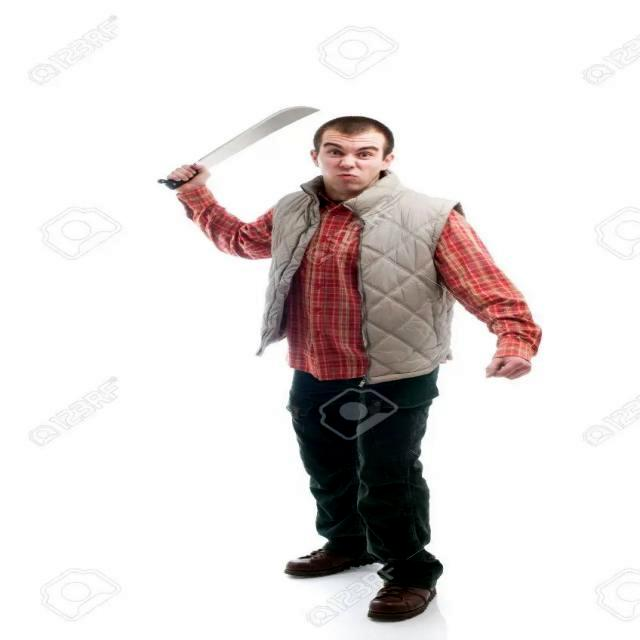long knife: (104, 88, 332, 208)
